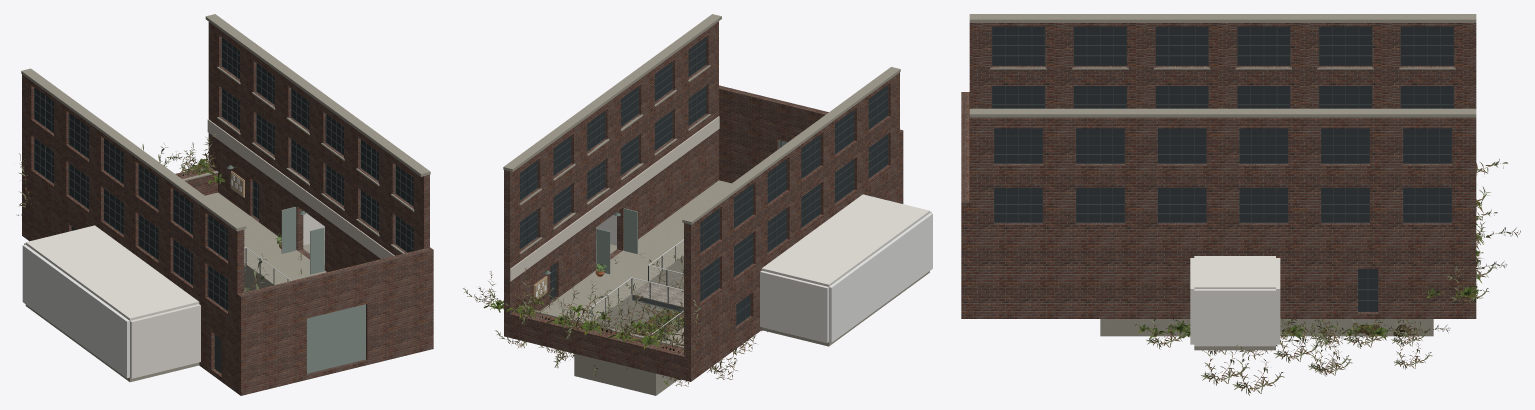
Rendered from environment.glb.
3 views of the same model, side by side, from view 1: azimuth 30°, elevation 25°; view 2: azimuth 150°, elevation 25°; view 3: azimuth 270°, elevation 25° (orthographic). The views are drawn at different scales.
Parts seen in each view (by area): view 1: env_brick, env_glass_dark, env_plaster, env_concrete_smooth, env_frame, env_tile_white, env_sage, env_concrete, env_render, far_052_shrub_02, far_056_shrub_02; view 2: env_brick, env_glass_dark, env_plaster, env_concrete_smooth, env_concrete, env_frame, env_tile_white, env_render, far_052_shrub_02, env_sage, far_056_shrub_02, env_deck (+2 smaller); view 3: env_brick, env_glass_dark, env_concrete_smooth, env_frame, env_plaster, plant_r032_shrub_02, plant_r045_shrub_02, plant_r036_shrub_02, plant_r041_shrub_02, far_052_shrub_02, far_056_shrub_02.
Boxes of the visible parts, x1,y1,x2,y2 form: env_brick: [22, 22, 433, 395]; env_glass_dark: [34, 38, 413, 310]; env_plaster: [24, 211, 324, 378]; env_concrete_smooth: [21, 14, 430, 292]; env_frame: [34, 38, 413, 373]; env_tile_white: [22, 244, 129, 378]; env_sage: [281, 206, 365, 373]; env_concrete: [25, 192, 326, 382]; env_render: [207, 119, 394, 258]; far_052_shrub_02: [18, 133, 217, 207]; far_056_shrub_02: [158, 142, 214, 175]; env_brick: [504, 21, 903, 381]; env_glass_dark: [520, 37, 887, 325]; env_plaster: [596, 194, 931, 342]; env_concrete_smooth: [503, 14, 900, 395]; env_concrete: [541, 180, 929, 346]; env_frame: [520, 37, 888, 340]; env_tile_white: [829, 213, 932, 342]; env_render: [509, 116, 719, 281]; far_052_shrub_02: [487, 268, 702, 353]; env_sage: [596, 140, 787, 274]; far_056_shrub_02: [463, 271, 625, 335]; env_deck: [632, 281, 683, 307]; env_brick: [961, 23, 1476, 318]; env_glass_dark: [992, 26, 1453, 311]; env_concrete_smooth: [969, 14, 1476, 336]; env_frame: [992, 26, 1453, 311]; env_plaster: [1190, 256, 1280, 346]; plant_r032_shrub_02: [1287, 319, 1369, 374]; plant_r045_shrub_02: [1289, 319, 1369, 376]; plant_r036_shrub_02: [1374, 319, 1450, 369]; plant_r041_shrub_02: [1232, 335, 1308, 395]; far_052_shrub_02: [1447, 159, 1520, 280]; far_056_shrub_02: [1451, 209, 1507, 304].
Bounding box in the file's own units: 22.76 × 13.68 × 27.36.
Materials: 37 (16 with a texture image).
